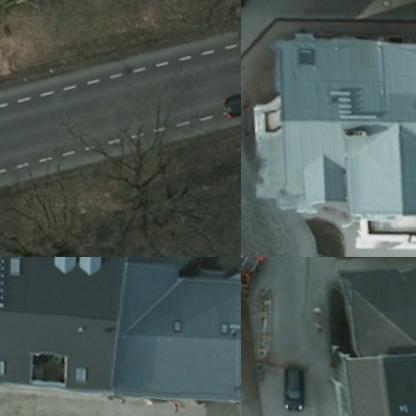car: (272, 361, 303, 410), (214, 78, 240, 122)
